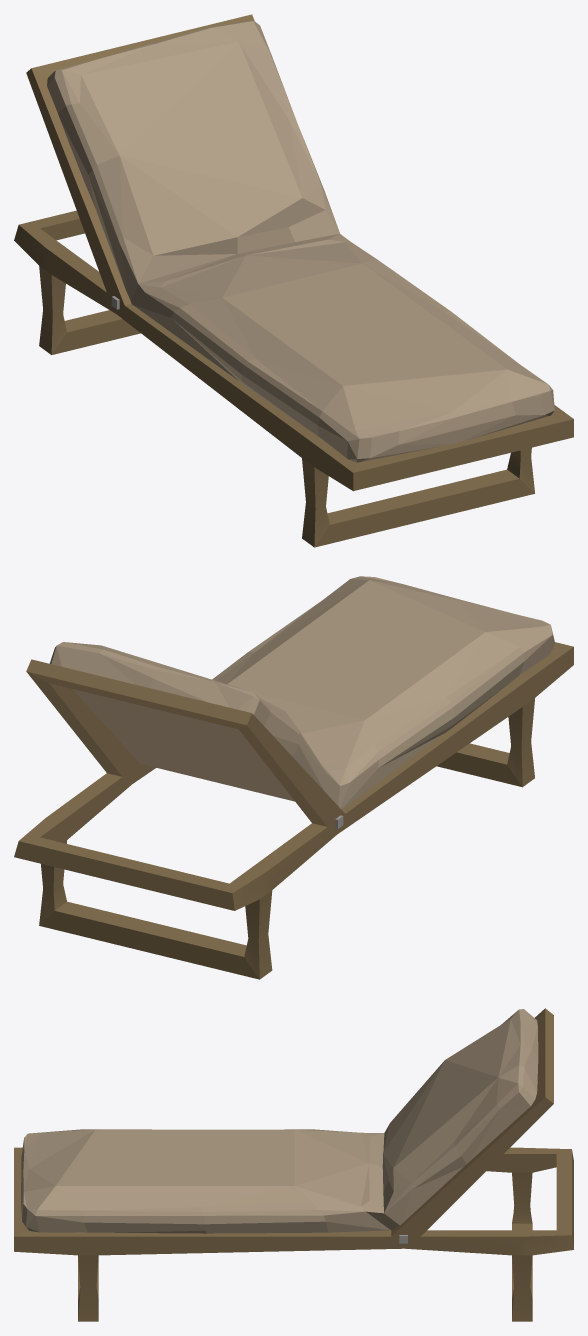
The model's file is SM_Prop_Deckchair_01.fbx.
3 views of the same model, one above another, from view 1: azimuth 30°, elevation 25°; view 2: azimuth 150°, elevation 25°; view 3: azimuth 270°, elevation 25° (orthographic). The views are drawn at different scales.
Visible parts, largest first — view 1: SM_Prop_Deckchair_01; view 2: SM_Prop_Deckchair_01; view 3: SM_Prop_Deckchair_01.
Part boxes in pixels (bbox=[...]): SM_Prop_Deckchair_01: bbox=[14, 14, 573, 547]; SM_Prop_Deckchair_01: bbox=[14, 576, 573, 979]; SM_Prop_Deckchair_01: bbox=[14, 1008, 573, 1321].
Size of the model in its own units: 85.58 by 103 by 222.
